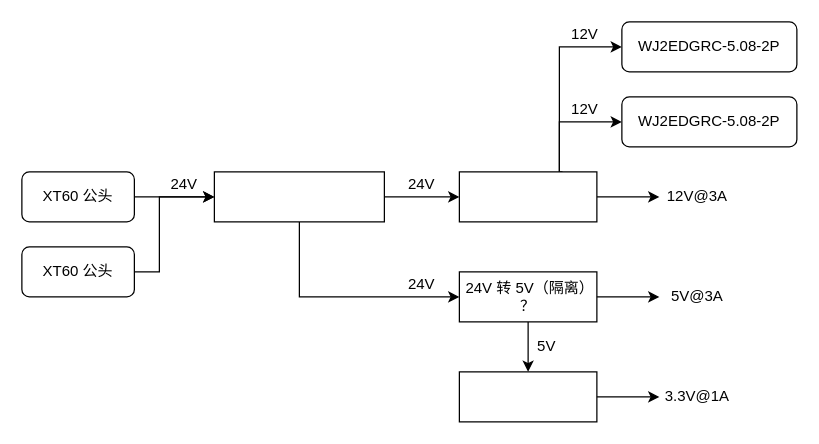
The diagram is 819 pixels wide and 444 high, and some of its shapes have lost their labels. The shapes that lost their labels are listed below. From the top down, each one's box as (x1, y1, x2, y2) in pixels, then its label:
(213, 171, 384, 222): 防过压、防反接电路
(458, 171, 597, 222): 24V 转 12V LM2596S-12
(458, 371, 597, 422): 5V 转 3.3V AMS1117-3.3
